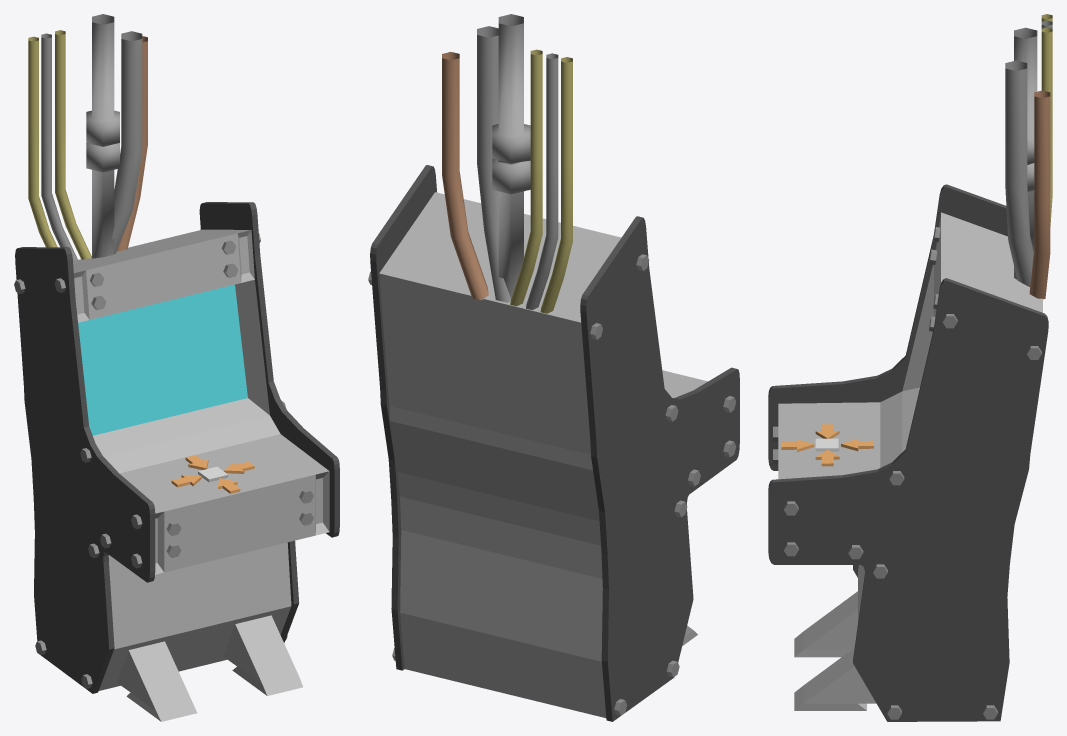
File: GameCabinetProto.fbx
3 views of the same model, side by side, from view 1: azimuth 30°, elevation 25°; view 2: azimuth 150°, elevation 25°; view 3: azimuth 270°, elevation 25° (orthographic). The views are drawn at different scales.
Parts seen in each view (by area): view 1: BaseModel_PM, SidePanelLeft, SidePanelRight, Cylinder, Wire1, Wire1.004, Wire1.003, Wire1.002, Wire1.001, BoltSidePanelL, PMArrowButtons; view 2: BaseModel_PM, SidePanelLeft, Cylinder, SidePanelRight, Wire1, Wire1.001, Wire1.003, Wire1.004, Wire1.002, BoltSidePanelL; view 3: SidePanelRight, BaseModel_PM, SidePanelLeft, Wire1, Wire1.001, Cylinder, BoltSidePanelR, Wire1.004, PMArrowButtons.
Part boxes in pixels (<box>): BaseModel_PM: <box>73,229,329,721</box>; SidePanelLeft: <box>15,247,155,693</box>; SidePanelRight: <box>199,202,339,642</box>; Cylinder: <box>86,14,119,258</box>; Wire1: <box>91,31,142,256</box>; Wire1.004: <box>55,30,91,259</box>; Wire1.003: <box>41,33,78,262</box>; Wire1.002: <box>28,36,57,247</box>; Wire1.001: <box>116,36,147,251</box>; BoltSidePanelL: <box>14,278,142,688</box>; PMArrowButtons: <box>171,455,254,493</box>; BaseModel_PM: <box>379,192,707,717</box>; SidePanelLeft: <box>580,216,739,721</box>; Cylinder: <box>492,14,530,298</box>; SidePanelRight: <box>370,165,436,670</box>; Wire1: <box>477,26,510,302</box>; Wire1.001: <box>442,52,488,300</box>; Wire1.003: <box>526,53,558,309</box>; Wire1.004: <box>510,49,542,306</box>; Wire1.002: <box>540,57,572,313</box>; BoltSidePanelL: <box>590,254,736,715</box>; SidePanelRight: <box>768,278,1048,721</box>; BaseModel_PM: <box>778,212,1042,710</box>; SidePanelLeft: <box>768,184,1007,577</box>; Wire1: <box>1005,60,1033,286</box>; Wire1.001: <box>1029,90,1050,299</box>; Cylinder: <box>1014,27,1037,279</box>; BoltSidePanelR: <box>783,314,1041,719</box>; Wire1.004: <box>1041,27,1052,226</box>; PMArrowButtons: <box>781,424,873,466</box>.
Bounding box in the file's own units: 2.56 × 7.47 × 3.04.
